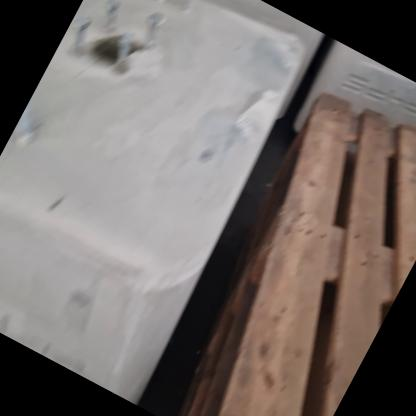BoxFace: (207, 95, 416, 416)
